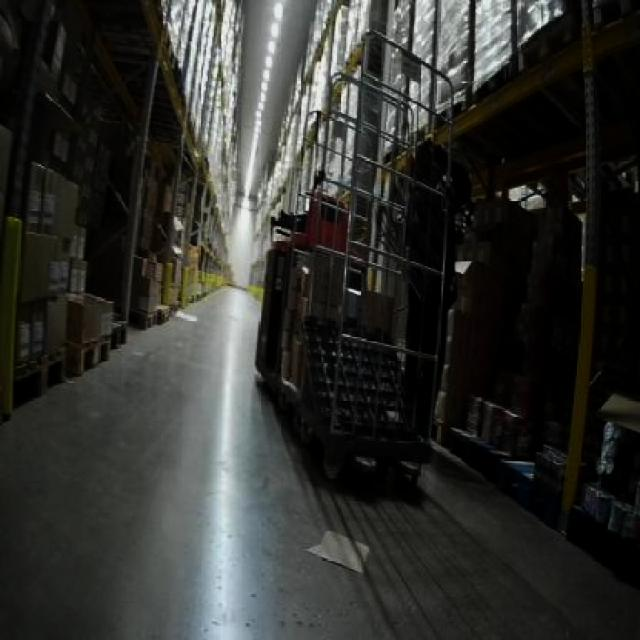floor: (0, 286, 637, 637), (303, 526, 369, 574)
